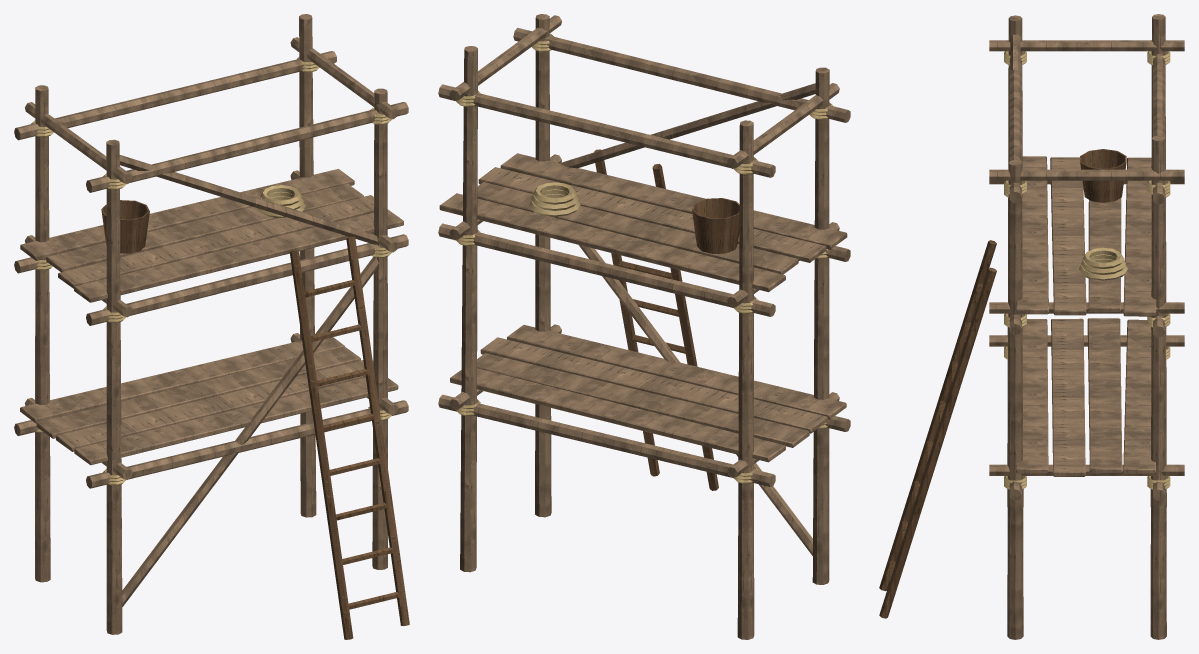
Rendered from build_scaffolding_t1.glb.
The picture shows the model from 3 angles, left to right: view 1: azimuth 30°, elevation 25°; view 2: azimuth 150°, elevation 25°; view 3: azimuth 270°, elevation 25°; orthographic projection. The views are drawn at different scales.
Parts seen in each view (by area): view 1: wood, wood_dark, rope; view 2: wood, wood_dark, rope; view 3: wood, wood_dark, rope.
Boxes of the visible parts, x1,y1,x2,y2 form: wood: [14, 14, 408, 634]; wood_dark: [101, 200, 409, 639]; rope: [31, 57, 391, 485]; wood: [438, 14, 850, 639]; wood_dark: [594, 149, 739, 490]; rope: [456, 34, 833, 483]; wood: [989, 14, 1184, 639]; wood_dark: [879, 149, 1126, 618]; rope: [1004, 51, 1170, 489].
Size of the model in its own units: 2.27 by 3.38 by 1.88.
3 materials, 3 textured.
